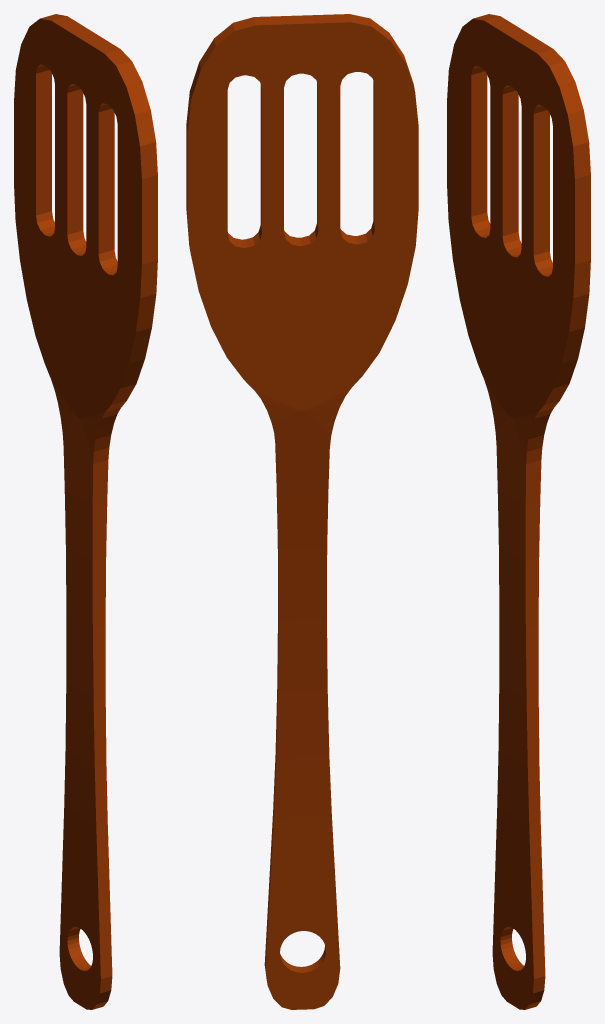
Rendered from ustensilwood.glb.
3 renders of one model, left to right at view 1: azimuth 90°, elevation 25°; view 2: azimuth 150°, elevation 25°; view 3: azimuth 270°, elevation 25°, orthographic.
Parts seen in each view (by area): view 1: ustensilwood; view 2: ustensilwood; view 3: ustensilwood.
Part boxes in pixels (box(x1,y1,x2,y2)): ustensilwood: box(14, 14, 157, 1009); ustensilwood: box(186, 14, 418, 1009); ustensilwood: box(447, 14, 590, 1009).
Bounding box in the file's own units: 0.0435 × 0.2344 × 0.0315.
